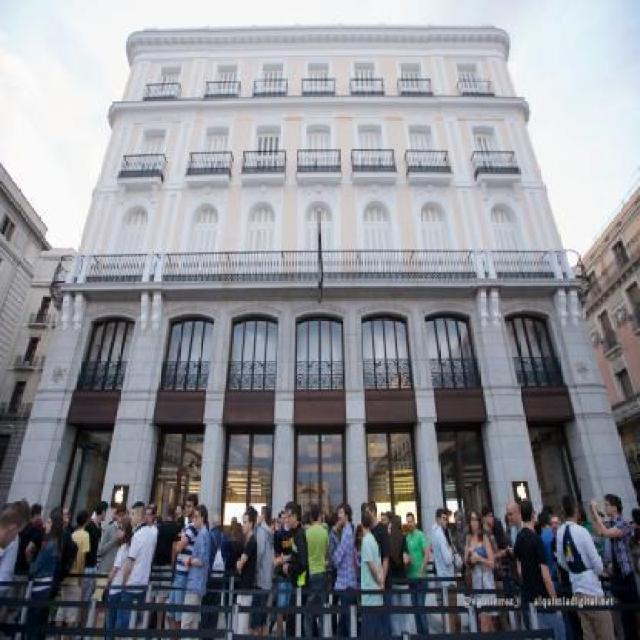Person: (556, 490, 616, 639), (512, 495, 568, 639), (587, 490, 639, 639), (280, 498, 322, 639), (165, 488, 203, 638), (114, 497, 152, 638), (52, 506, 92, 639), (25, 506, 64, 640), (462, 506, 501, 632), (301, 502, 334, 638), (178, 501, 210, 639), (200, 506, 231, 639), (104, 513, 136, 639), (247, 500, 276, 638), (356, 506, 386, 639), (332, 498, 359, 639), (434, 505, 463, 633), (405, 508, 433, 634), (232, 506, 258, 639), (389, 512, 409, 639), (0, 488, 34, 554)
